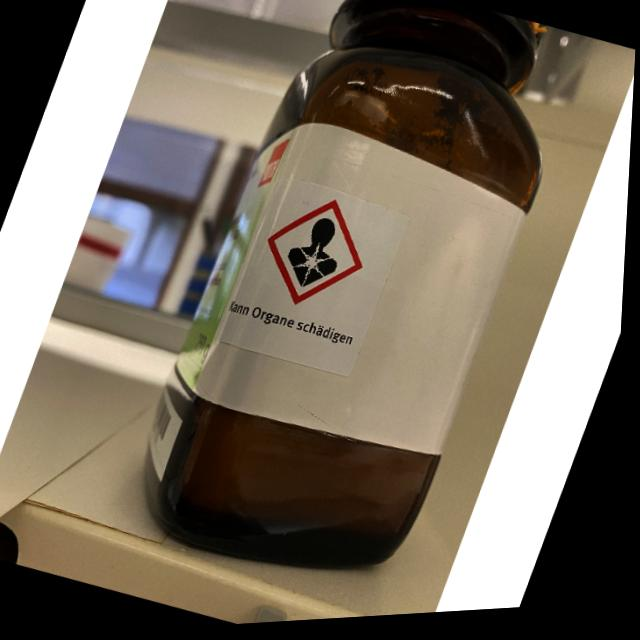serious health hazard: (248, 184, 387, 327)
